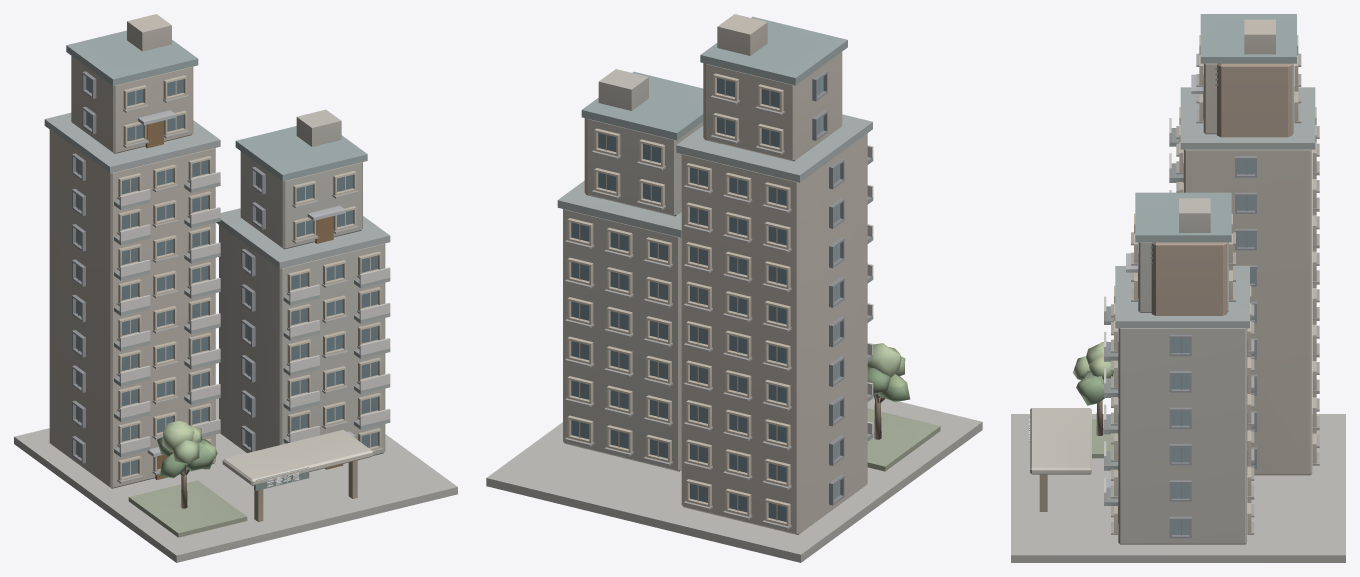
File: highrise.glb
3 views of the same model, side by side, from view 1: azimuth 30°, elevation 25°; view 2: azimuth 150°, elevation 25°; view 3: azimuth 270°, elevation 25° (orthographic). The views are drawn at different scales.
Parts seen in each view (by area): view 1: highrise; view 2: highrise; view 3: highrise.
Part boxes in pixels (x1,y1,x2,y2): highrise: (14, 14, 457, 562); highrise: (486, 14, 982, 562); highrise: (1011, 14, 1345, 562).
Size of the model in its own units: 2 by 2.91 by 2.
